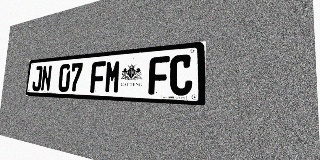0: (58, 63, 71, 92)
7: (69, 63, 83, 92)
C: (169, 54, 193, 96)
F: (148, 56, 170, 95), (90, 61, 106, 93)
J: (32, 66, 43, 91)
M: (104, 60, 121, 94)
N: (40, 65, 52, 91)
